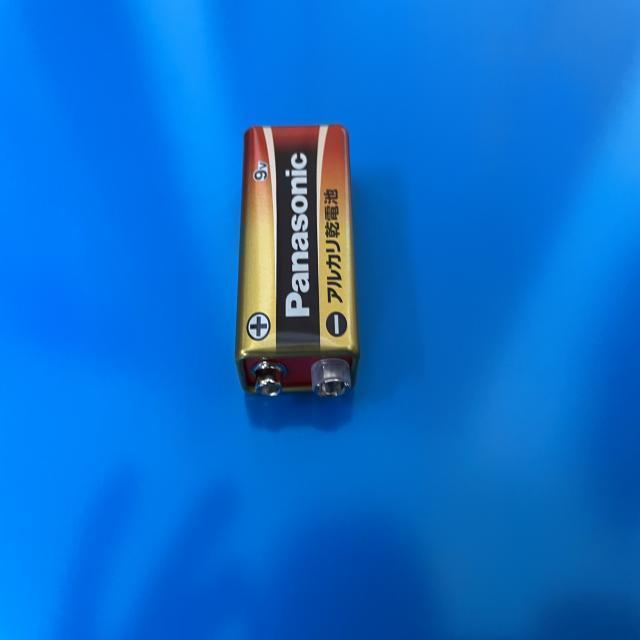9V: (234, 123, 362, 417)
